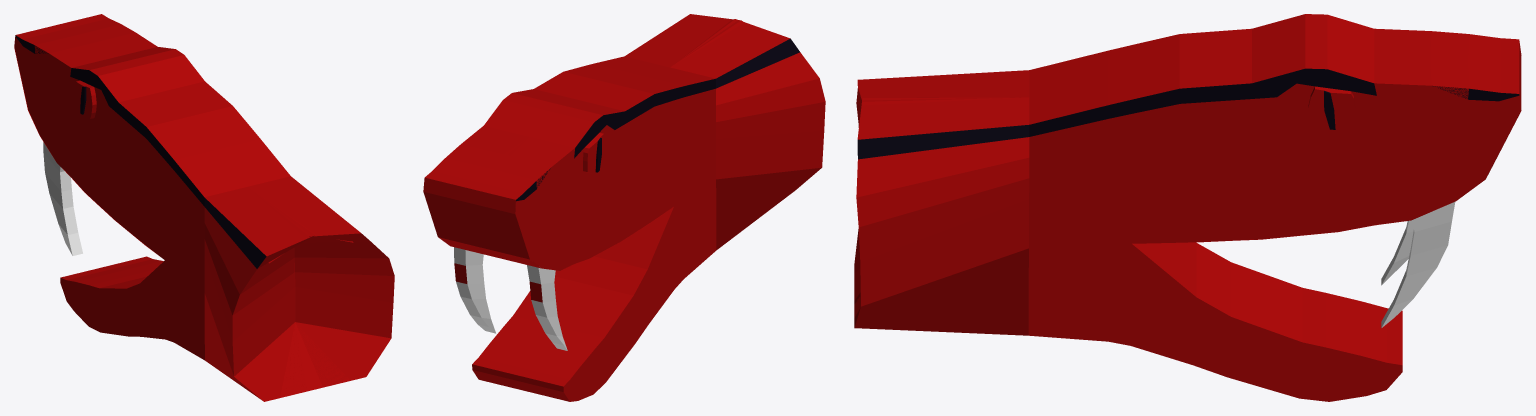
3 renders of one model, left to right at view 1: azimuth 30°, elevation 25°; view 2: azimuth 150°, elevation 25°; view 3: azimuth 270°, elevation 25°, orthographic. The views are drawn at different scales.
Visible parts, largest first — view 1: Plane; view 2: Plane; view 3: Plane.
Part boxes in pixels (box(x1,y1,x2,y2)): Plane: box(14, 14, 394, 401); Plane: box(423, 14, 825, 401); Plane: box(854, 14, 1521, 401).
Size of the model in its own units: 2.14 by 1.41 by 3.88.
